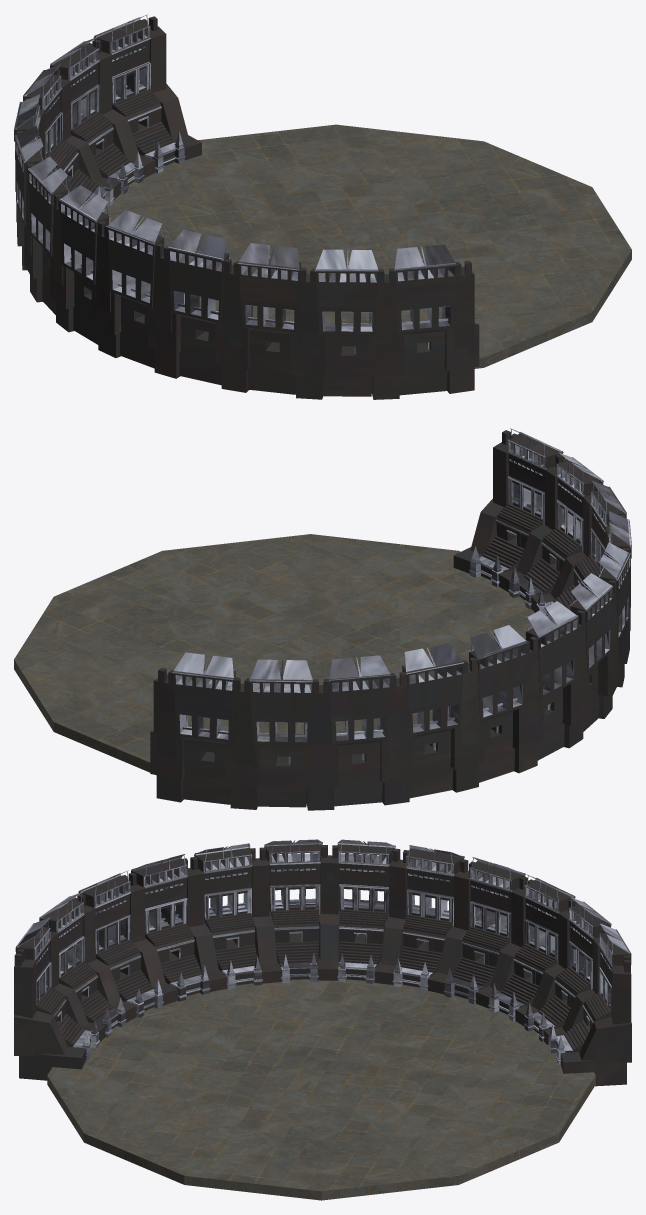
File: arena_back.obj
The picture shows the model from 3 angles, top to bottom: view 1: azimuth 30°, elevation 25°; view 2: azimuth 150°, elevation 25°; view 3: azimuth 270°, elevation 25°; orthographic projection. The views are drawn at different scales.
Parts seen in each view (by area): view 1: pCylinder1_メッシュ, polySurface37_メッシュ.038, polySurface36_メッシュ.034, polySurface38_メッシュ.042, polySurface39_メッシュ.046, polySurface47_メッシュ.078, polySurface40_メッシュ.050, polySurface46_メッシュ.074, polySurface41_メッシュ.054, pCube210_メッシュ.032, pCube207_メッシュ.028, pCube213_メッシュ.036 (+13 smaller); view 2: pCylinder1_メッシュ, polySurface46_メッシュ.074, polySurface47_メッシュ.078, polySurface44_メッシュ.066, polySurface45_メッシュ.070, polySurface43_メッシュ.062, polySurface36_メッシュ.034, polySurface42_メッシュ.058, polySurface37_メッシュ.038, pCube243_メッシュ.076, pCube237_メッシュ.068, pCube240_メッシュ.072 (+15 smaller); view 3: pCylinder1_メッシュ, polySurface41_メッシュ.054, polySurface42_メッシュ.058, polySurface40_メッシュ.050, polySurface43_メッシュ.062, polySurface39_メッシュ.046, polySurface44_メッシュ.066, pCube207_メッシュ.028, polySurface38_メッシュ.042, polySurface45_メッシュ.070, pCube243_メッシュ.076, polySurface37_メッシュ.038 (+14 smaller).
Boxes of the visible parts, left/top/right/bottom form: pCylinder1_メッシュ: left=104, top=124, right=631, bottom=368; polySurface37_メッシュ.038: left=315, top=249, right=378, bottom=396; polySurface36_メッシュ.034: left=394, top=244, right=456, bottom=395; polySurface38_メッシュ.042: left=238, top=243, right=301, bottom=394; polySurface39_メッシュ.046: left=167, top=229, right=229, bottom=385; polySurface47_メッシュ.078: left=93, top=14, right=176, bottom=165; polySurface40_メッシュ.050: left=106, top=210, right=164, bottom=368; polySurface46_メッシュ.074: left=50, top=37, right=135, bottom=185; polySurface41_メッシュ.054: left=59, top=185, right=110, bottom=344; pCube210_メッシュ.032: left=369, top=268, right=403, bottom=399; pCube207_メッシュ.028: left=444, top=260, right=479, bottom=393; pCube213_メッシュ.036: left=290, top=267, right=324, bottom=399; pCylinder1_メッシュ: left=14, top=534, right=534, bottom=775; polySurface46_メッシュ.074: left=249, top=659, right=313, bottom=807; polySurface47_メッシュ.078: left=172, top=652, right=235, bottom=804; polySurface44_メッシュ.066: left=402, top=643, right=464, bottom=798; polySurface45_メッシュ.070: left=329, top=657, right=391, bottom=806; polySurface43_メッシュ.062: left=468, top=625, right=527, bottom=782; polySurface36_メッシュ.034: left=479, top=428, right=563, bottom=579; polySurface42_メッシュ.058: left=525, top=601, right=578, bottom=760; polySurface37_メッシュ.038: left=518, top=452, right=603, bottom=600; pCube243_メッシュ.076: left=150, top=668, right=184, bottom=802; pCube237_メッシュ.068: left=303, top=679, right=337, bottom=810; pCube240_メッシュ.072: left=225, top=677, right=259, bottom=809; pCylinder1_メッシュ: left=47, top=979, right=595, bottom=1200; polySurface41_メッシュ.054: left=264, top=839, right=322, bottom=979; polySurface42_メッシュ.058: left=337, top=839, right=395, bottom=980; polySurface40_メッシュ.050: left=194, top=843, right=256, bottom=985; polySurface43_メッシュ.062: left=399, top=845, right=464, bottom=987; polySurface39_メッシュ.046: left=131, top=854, right=201, bottom=996; polySurface44_メッシュ.066: left=452, top=857, right=525, bottom=999; pCube207_メッシュ.028: left=14, top=949, right=86, bottom=1080; polySurface38_メッシュ.042: left=78, top=870, right=155, bottom=1010; polySurface45_メッシュ.070: left=498, top=874, right=575, bottom=1014; pCube243_メッシュ.076: left=560, top=955, right=631, bottom=1086; polySurface37_メッシュ.038: left=39, top=892, right=118, bottom=1028.
Size of the model in its own units: 0.3877 by 0.1004 by 0.4204.
